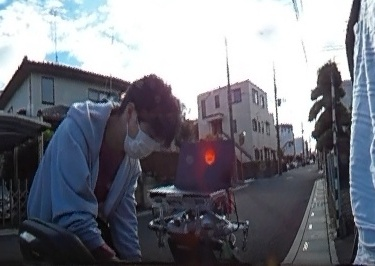person: (27, 72, 185, 260)
